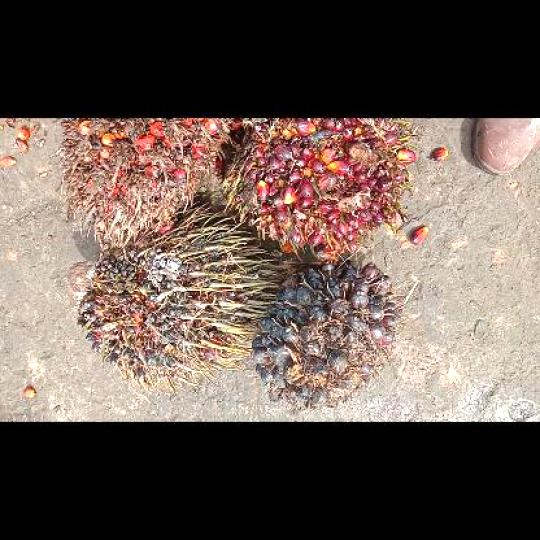masak: (228, 118, 413, 258)
terlalu masak: (61, 117, 238, 241)
